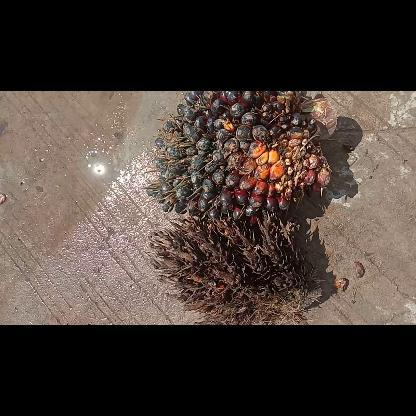Janjang kosong: (146, 210, 324, 324)
TBS mentah: (142, 90, 336, 220)
